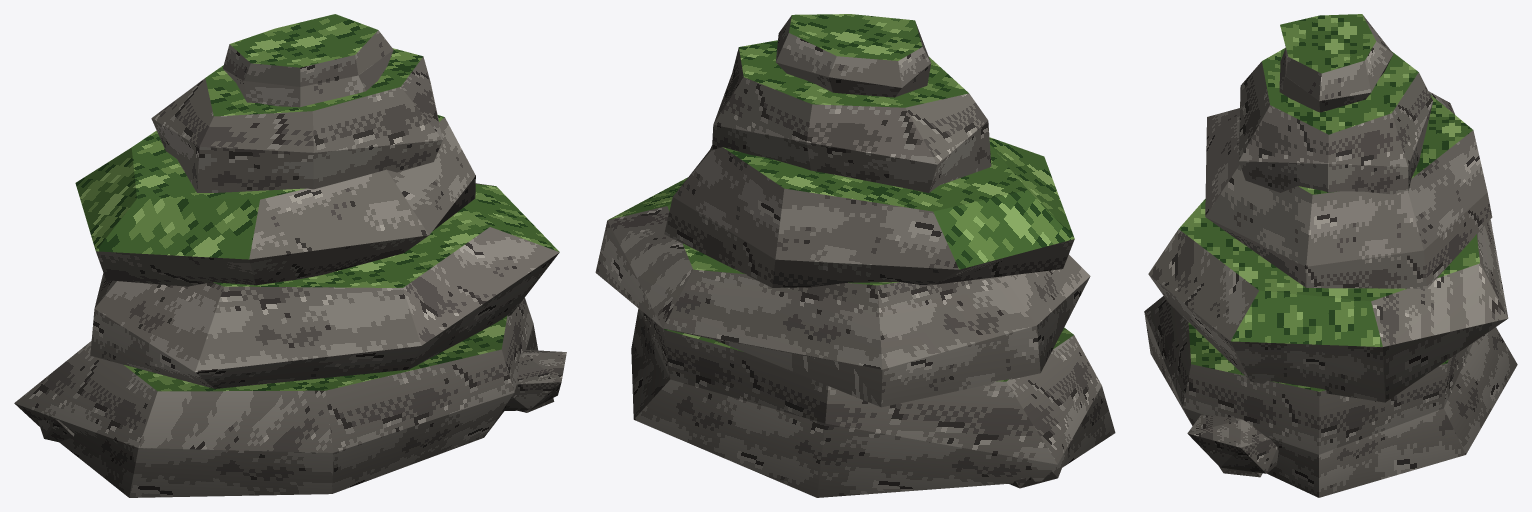
File: rock_cliff.glb
3 views of the same model, side by side, from view 1: azimuth 30°, elevation 25°; view 2: azimuth 150°, elevation 25°; view 3: azimuth 270°, elevation 25° (orthographic). The views are drawn at different scales.
Parts seen in each view (by area): view 1: rock_cliff; view 2: rock_cliff; view 3: rock_cliff.
Boxes of the visible parts, x1=… form: rock_cliff: x1=14, y1=14, x2=566, y2=497; rock_cliff: x1=595, y1=14, x2=1115, y2=497; rock_cliff: x1=1144, y1=14, x2=1517, y2=497.
Bounding box in the file's own units: 6.93 × 5.23 × 5.
Materials: 2 (2 with a texture image).
